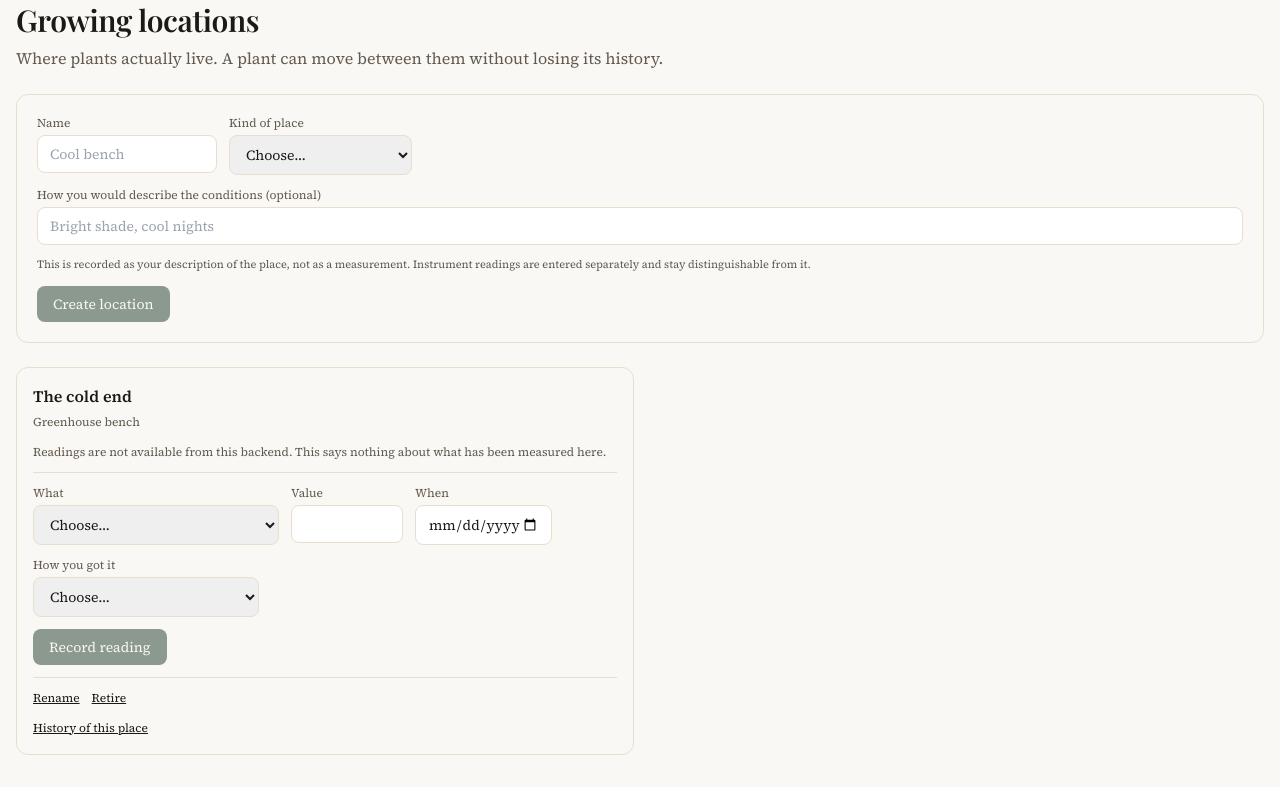
MyConservatory location history › says no plant moved because of any of it
The image size is (1280, 787).
(page scrolled)
Step 1. Click the button "History of this place" → (90, 728), box [33,720,148,736]
(page scrolled)
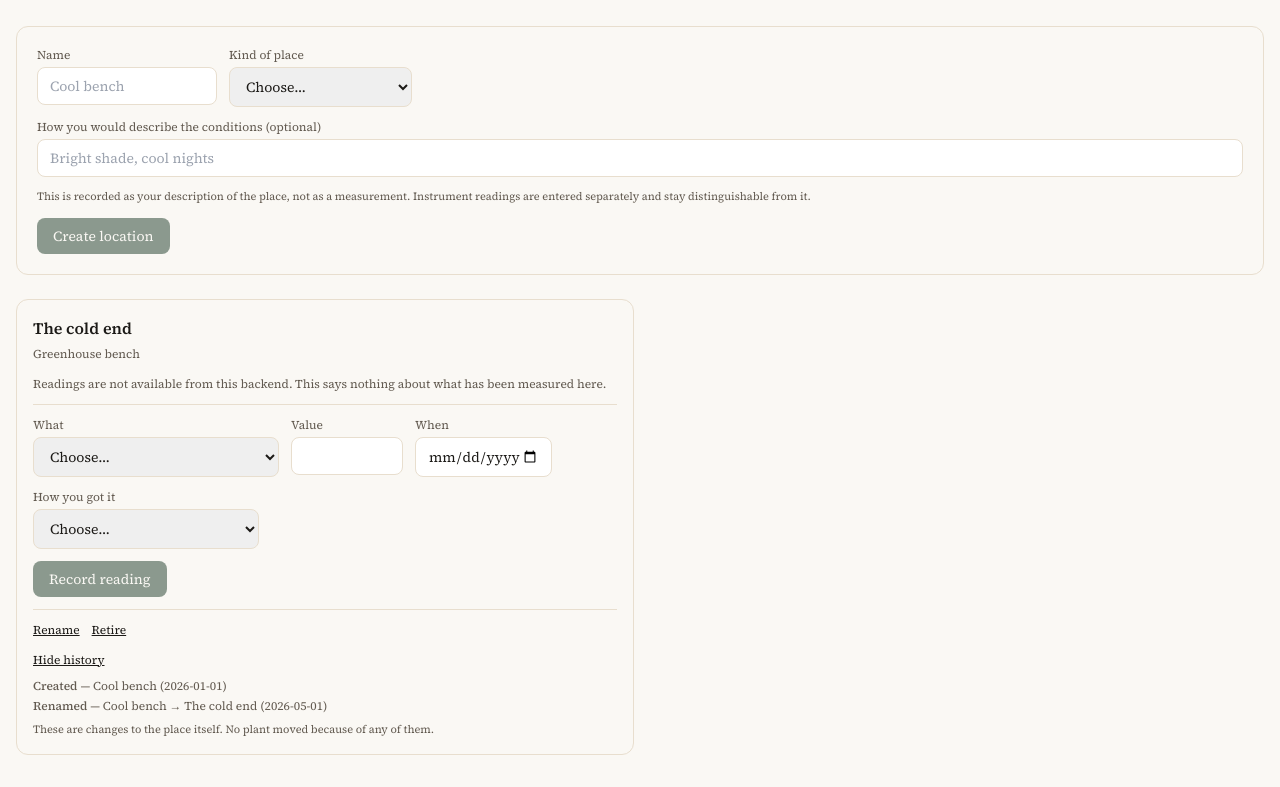
Expected: the text with test id "history-scope-loc-1" shows "changes to the place itself", [33,722,434,736]
Expected: the text with test id "history-scope-loc-1" shows "No plant moved", [33,722,434,736]
